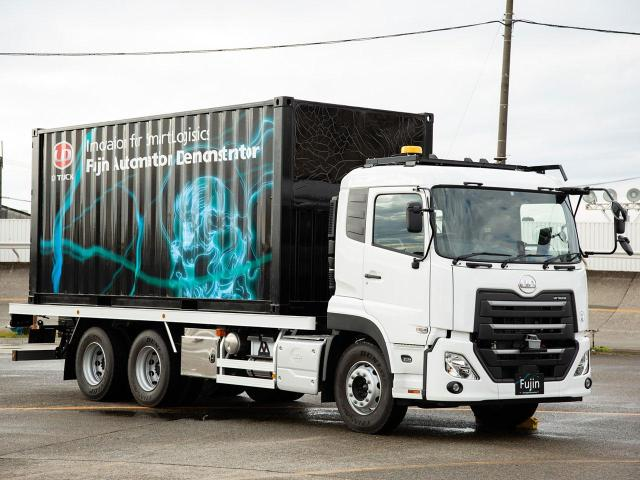truck: (9, 98, 616, 450)
